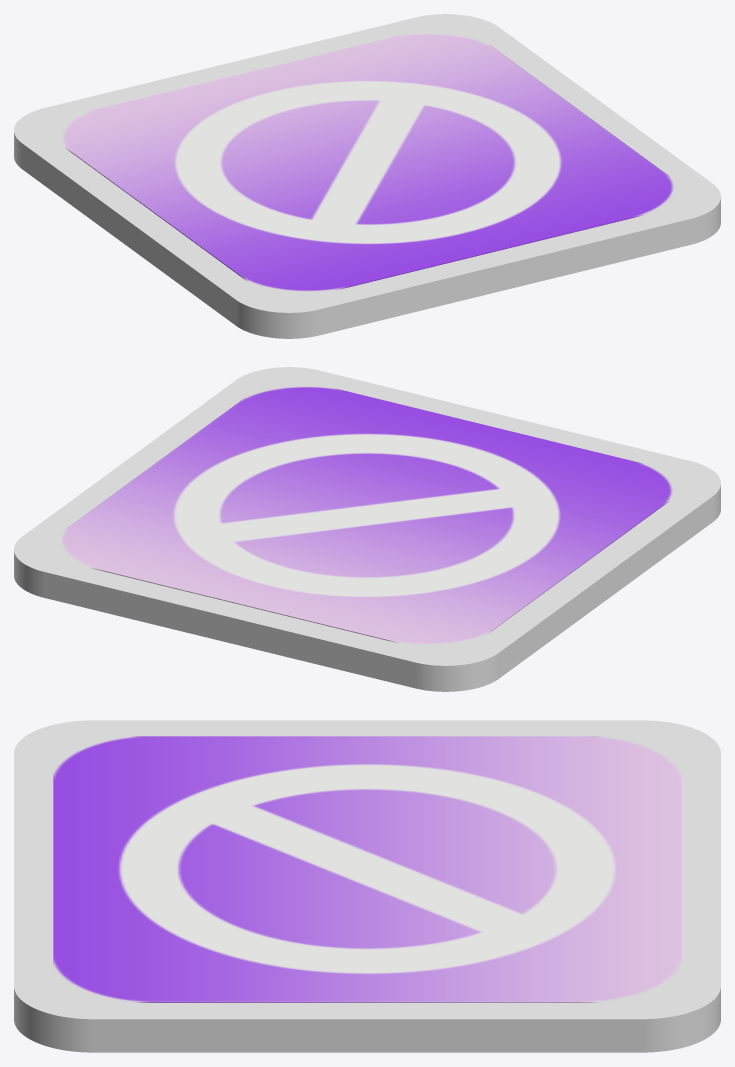
File: DeZipper.glb
The picture shows the model from 3 angles, top to bottom: view 1: azimuth 30°, elevation 25°; view 2: azimuth 150°, elevation 25°; view 3: azimuth 270°, elevation 25°; orthographic projection. The views are drawn at different scales.
Visible parts, largest first — view 1: Rectangle (×2); view 2: Rectangle (×2); view 3: Rectangle (×2).
Part boxes in pixels (x1=…): Rectangle (×2): x1=14, y1=14, x2=720, y2=338; Rectangle (×2): x1=14, y1=367, x2=720, y2=691; Rectangle (×2): x1=14, y1=720, x2=720, y2=1052.
Bounding box in the file's own units: 0.576 × 0.031 × 0.576.
2 materials, 1 textured.
